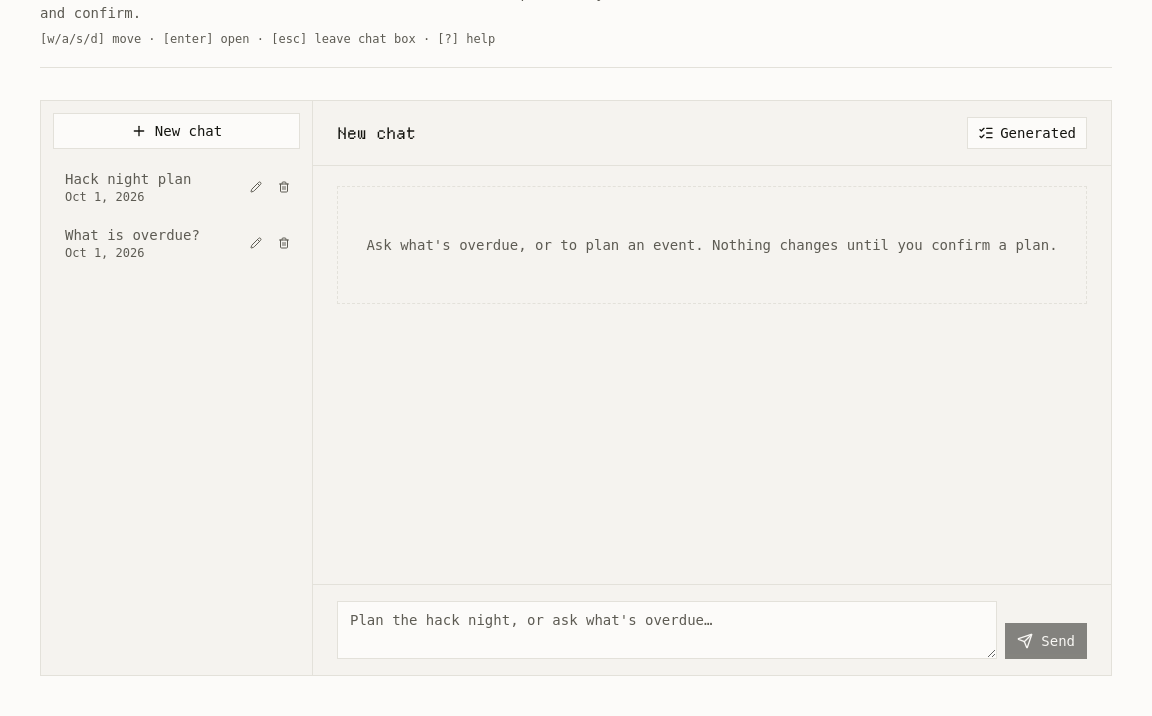
Scenario: does not carry a half-typed message into another chat
(page scrolled)
Type "Half a thought" into the text box named "Message the assistant" at [667, 630], box [337,601,997,659]
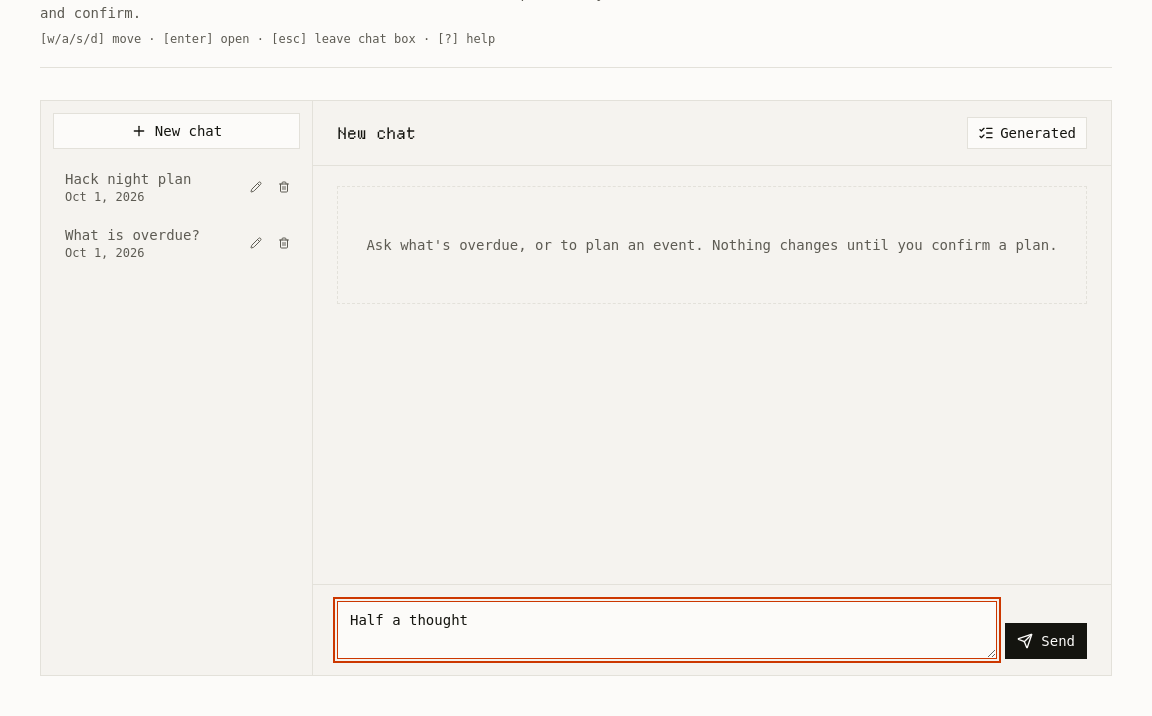
Click the link "Hack night plan Oct 1, 2026" at [128, 188], box [65,171,191,204]
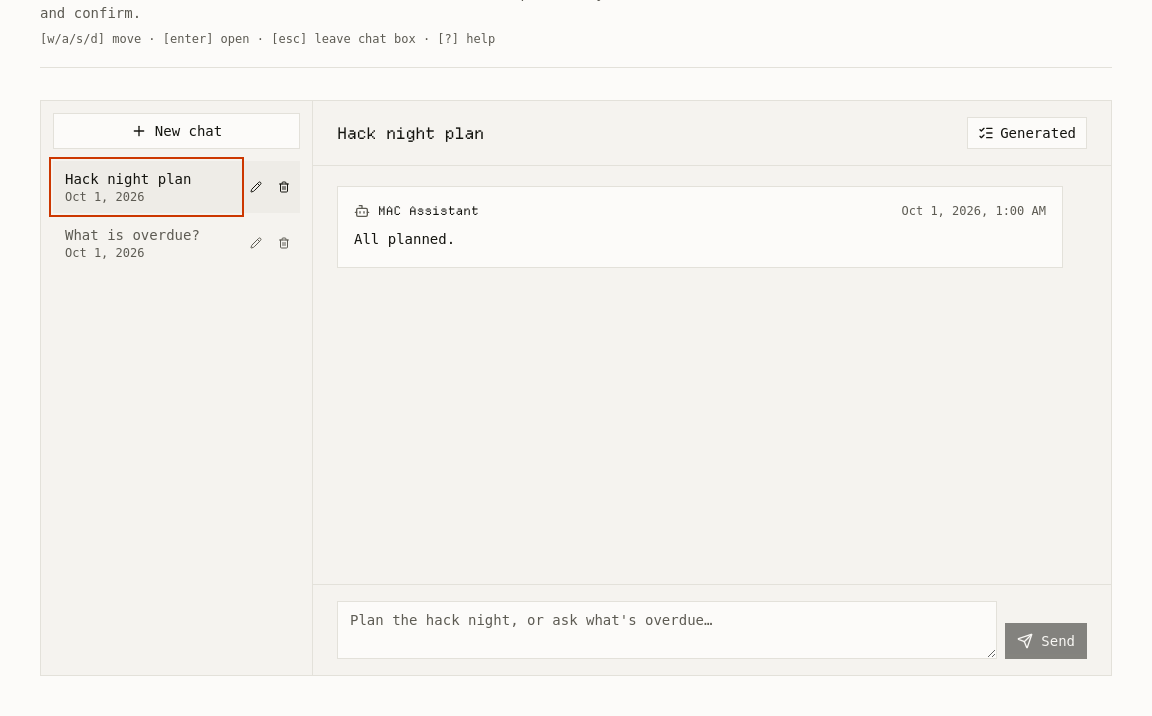
Expected: the text "All planned." is shown, [354,231,455,247]
Expected: the text box named "Message the assistant" is empty, [337,601,997,659]
